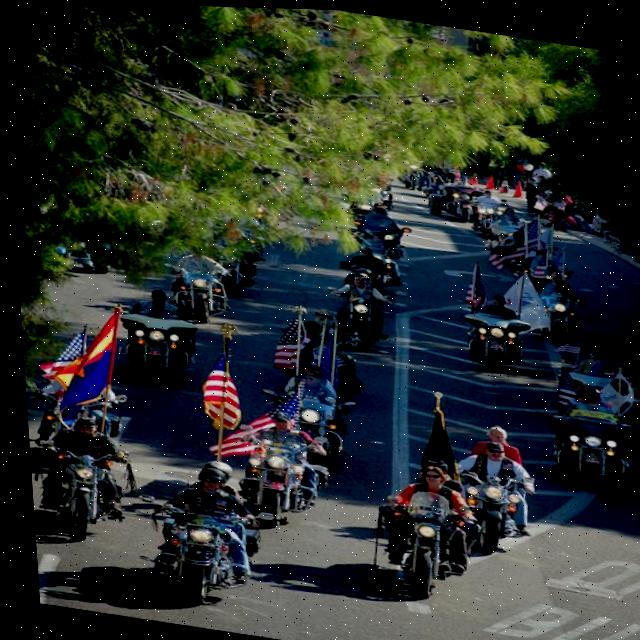motorcycle: (151, 494, 255, 612), (383, 500, 470, 601), (41, 435, 118, 532), (546, 404, 625, 495), (283, 396, 353, 497), (243, 432, 313, 528), (468, 470, 535, 560), (337, 280, 388, 346)
